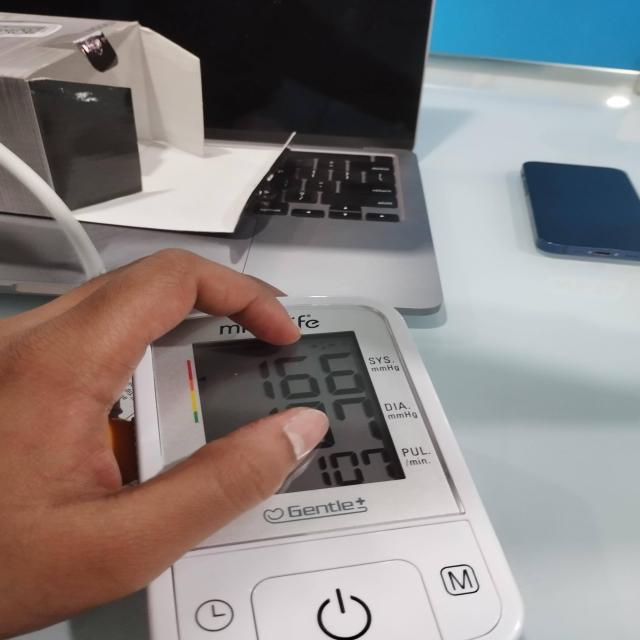bp: (114, 298, 526, 640)
